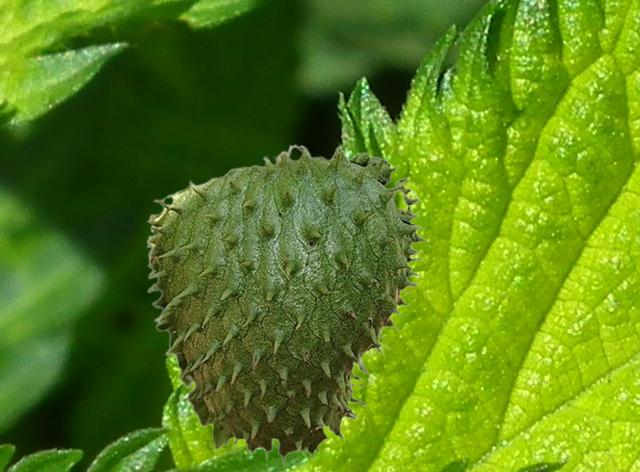guyabano: (146, 143, 428, 466)
